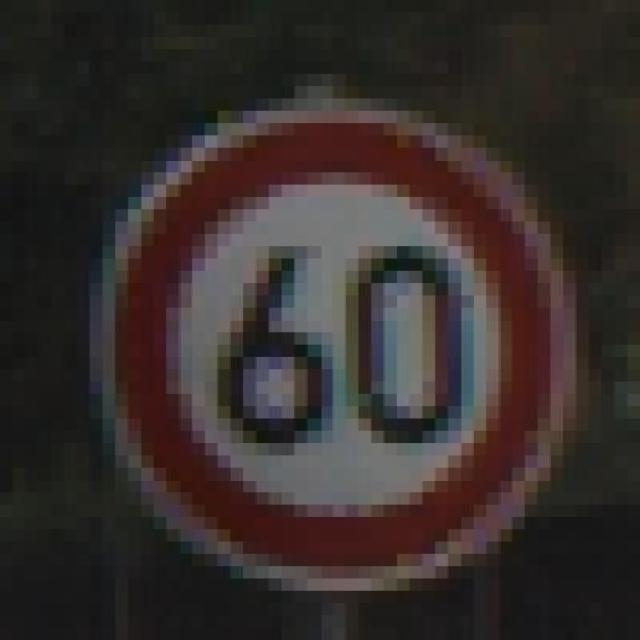forb_speed_over_60: (112, 110, 557, 588)
